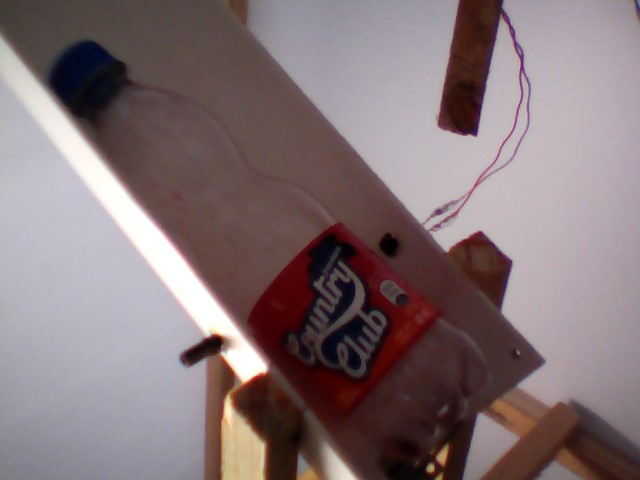plastico: (43, 37, 500, 480)
